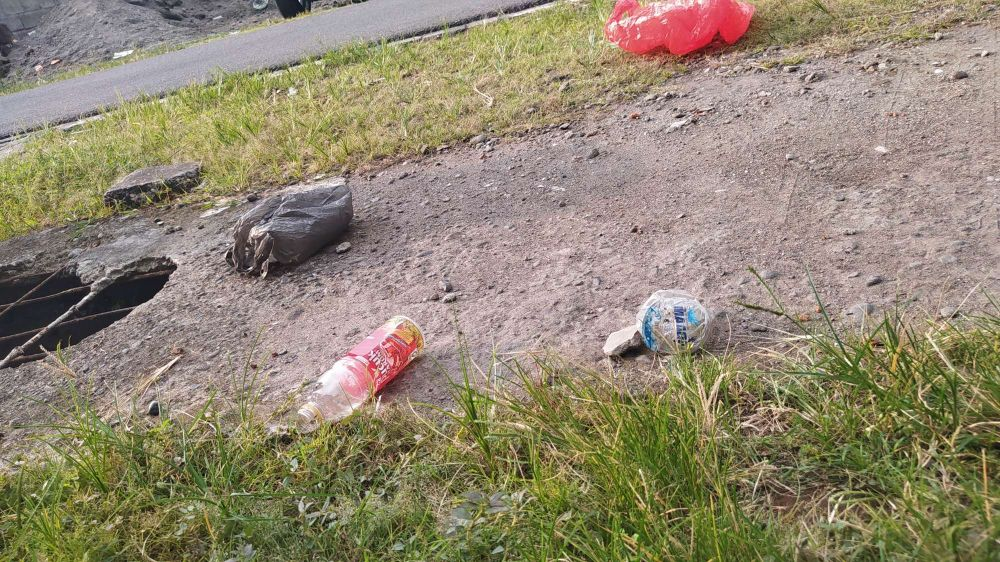botol: (284, 312, 429, 431)
plastik: (224, 173, 360, 278), (593, 1, 732, 59)
